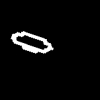chain: (11, 31, 52, 52)
